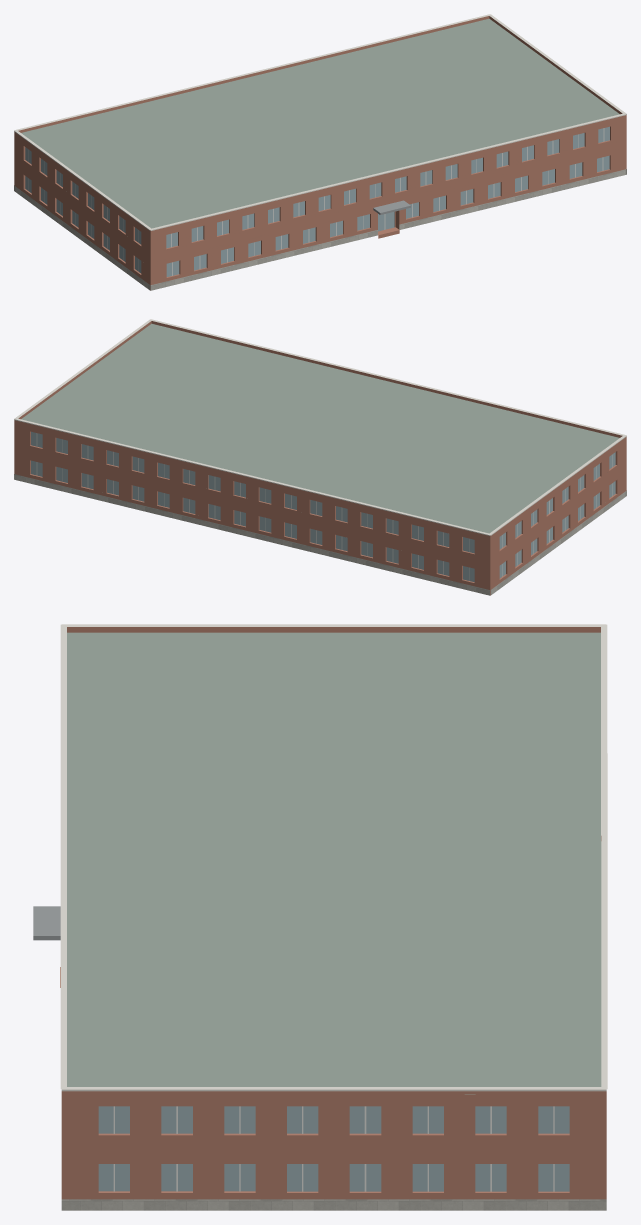
3 views of the same model, one above another, from view 1: azimuth 30°, elevation 25°; view 2: azimuth 150°, elevation 25°; view 3: azimuth 270°, elevation 25° (orthographic). The views are drawn at different scales.
Visible parts, largest first — view 1: b117912025__roof, b117912025__wall, b117912025__glass, b117912025__base, b117912025__parapet, b117912025__trim, b117912025__frame; view 2: b117912025__roof, b117912025__wall, b117912025__glass, b117912025__base, b117912025__parapet, b117912025__trim, b117912025__frame; view 3: b117912025__roof, b117912025__wall, b117912025__glass, b117912025__trim, b117912025__base, b117912025__parapet, b117912025__canopy, b117912025__frame.
Boxes of the visible parts, box(x1,y1,x2,y2) form: b117912025__roof: box(21, 18, 619, 228); b117912025__wall: box(14, 117, 626, 290); b117912025__glass: box(25, 126, 609, 276); b117912025__base: box(14, 169, 626, 290); b117912025__parapet: box(14, 16, 626, 232); b117912025__trim: box(14, 14, 626, 230); b117912025__frame: box(28, 128, 604, 275); b117912025__roof: box(21, 323, 619, 533); b117912025__wall: box(14, 422, 626, 595); b117912025__glass: box(31, 431, 615, 582); b117912025__base: box(14, 474, 626, 595); b117912025__parapet: box(14, 321, 626, 537); b117912025__trim: box(14, 319, 626, 535); b117912025__frame: box(36, 433, 612, 580); b117912025__roof: box(67, 632, 601, 1094); b117912025__wall: box(61, 1094, 606, 1199); b117912025__glass: box(98, 1106, 569, 1191); b117912025__trim: box(60, 624, 607, 1091); b117912025__base: box(61, 1199, 606, 1210); b117912025__parapet: box(61, 627, 606, 1094); b117912025__canopy: box(33, 906, 60, 940); b117912025__frame: box(113, 1106, 554, 1191).
Size of the model in its own units: 62.21 by 7.95 by 32.44.
10 materials, 1 textured.
